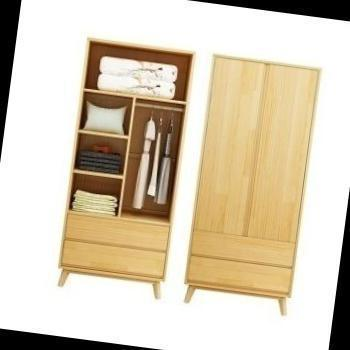Armario: (49, 31, 202, 304), (176, 50, 327, 319)
